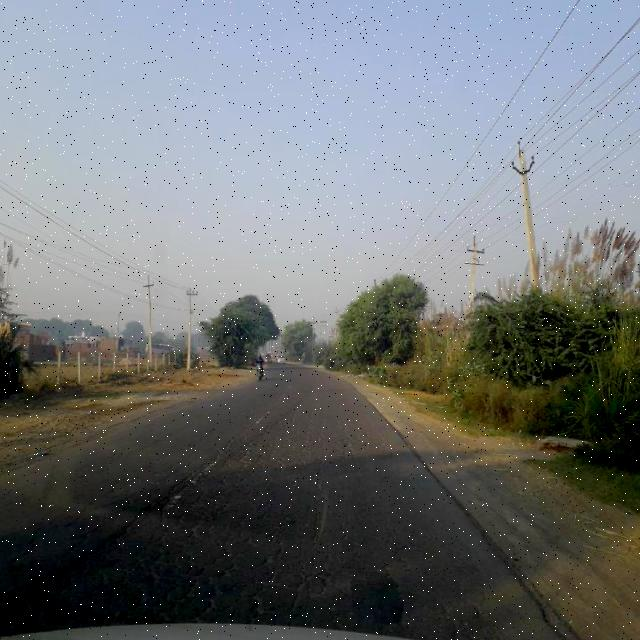D20: (12, 470, 450, 630)
D44: (162, 420, 249, 506)
